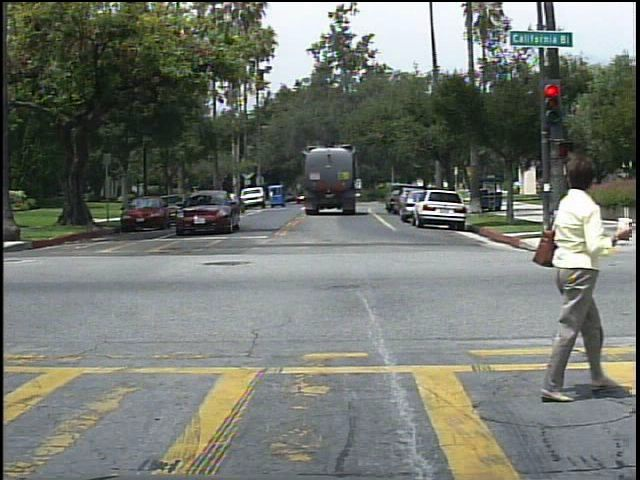person: (505, 135, 625, 408), (512, 180, 526, 199)
